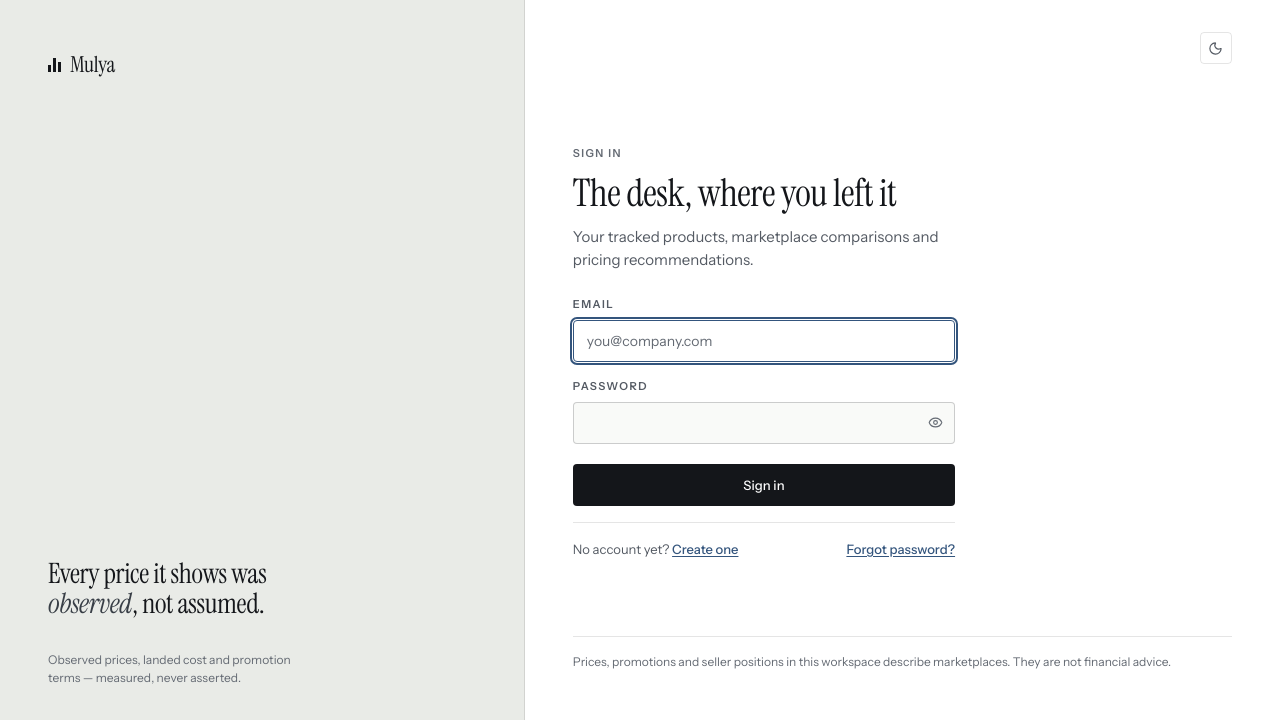
Test: UI-AUTH — sessions › UI-AUTH-13: a success response with no token does not become a signed-in state
In the field labelled "Email": [764, 341] box [573,320,955,362], type "operator@example.com"
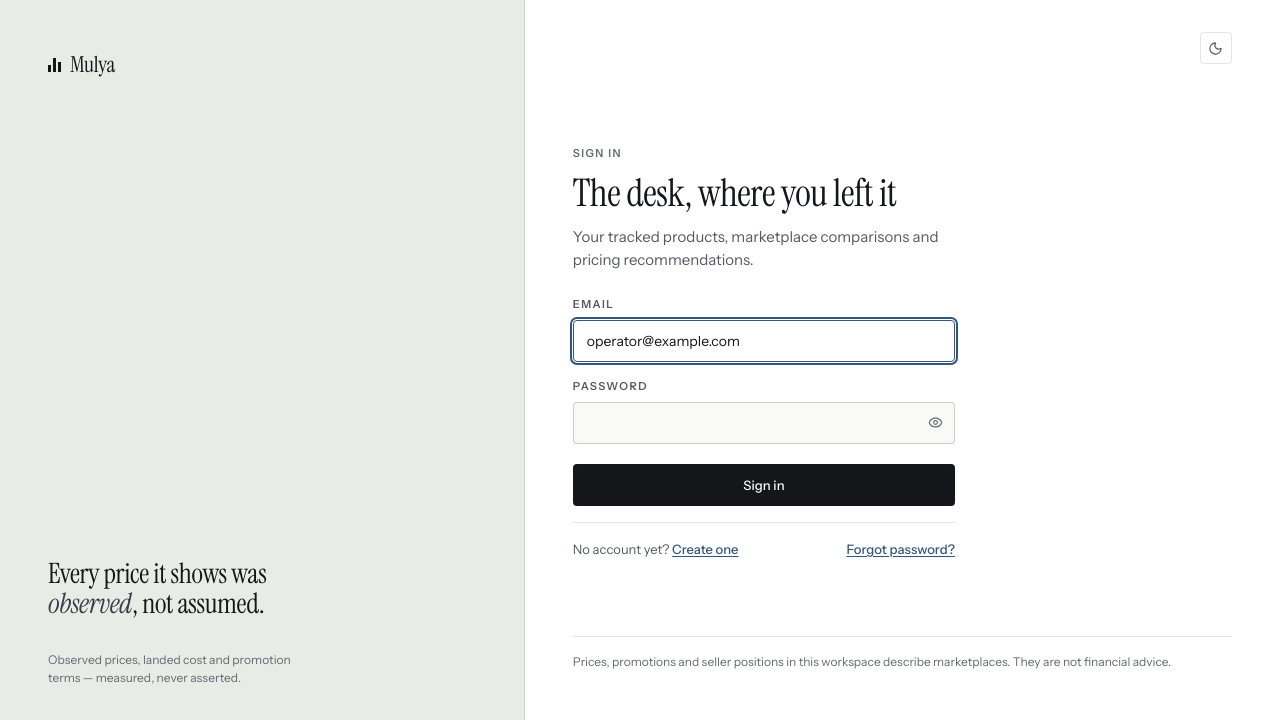
In the password field labelled "Password": [764, 423] box [573,402,955,444], type "correct-horse-battery"
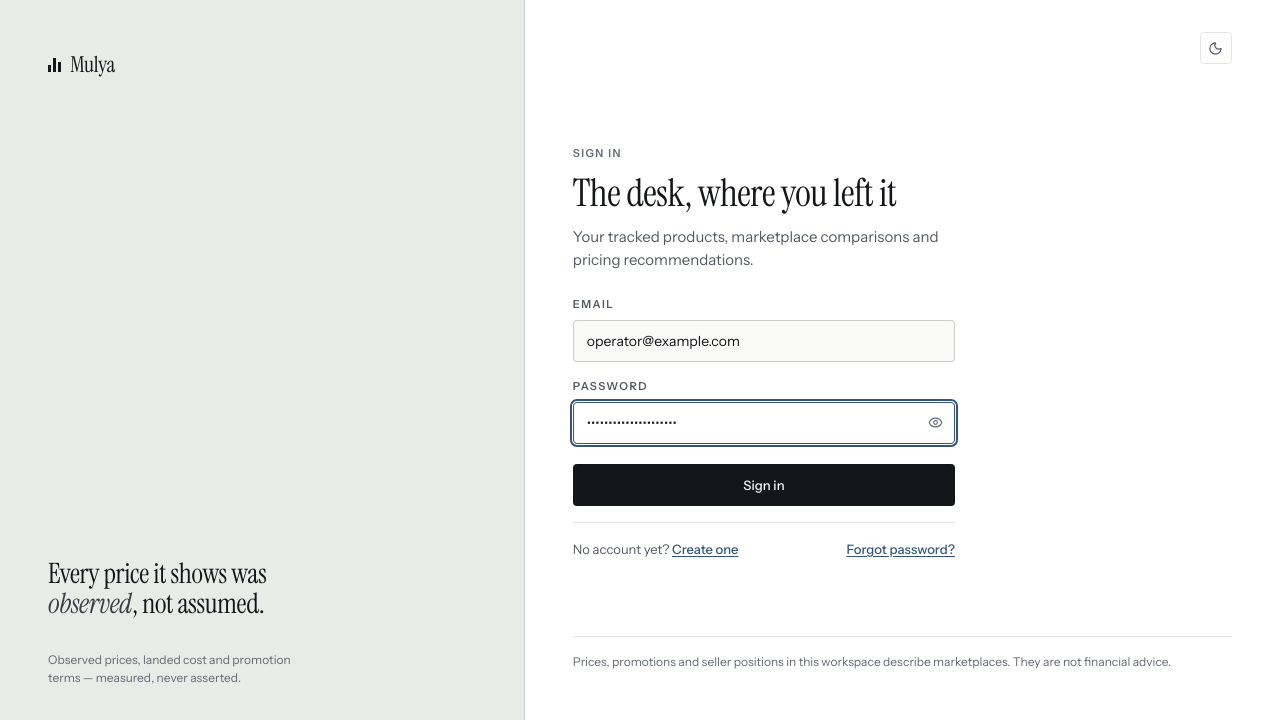
Click the button "Sign in": [764, 485] box [573,464,955,506]
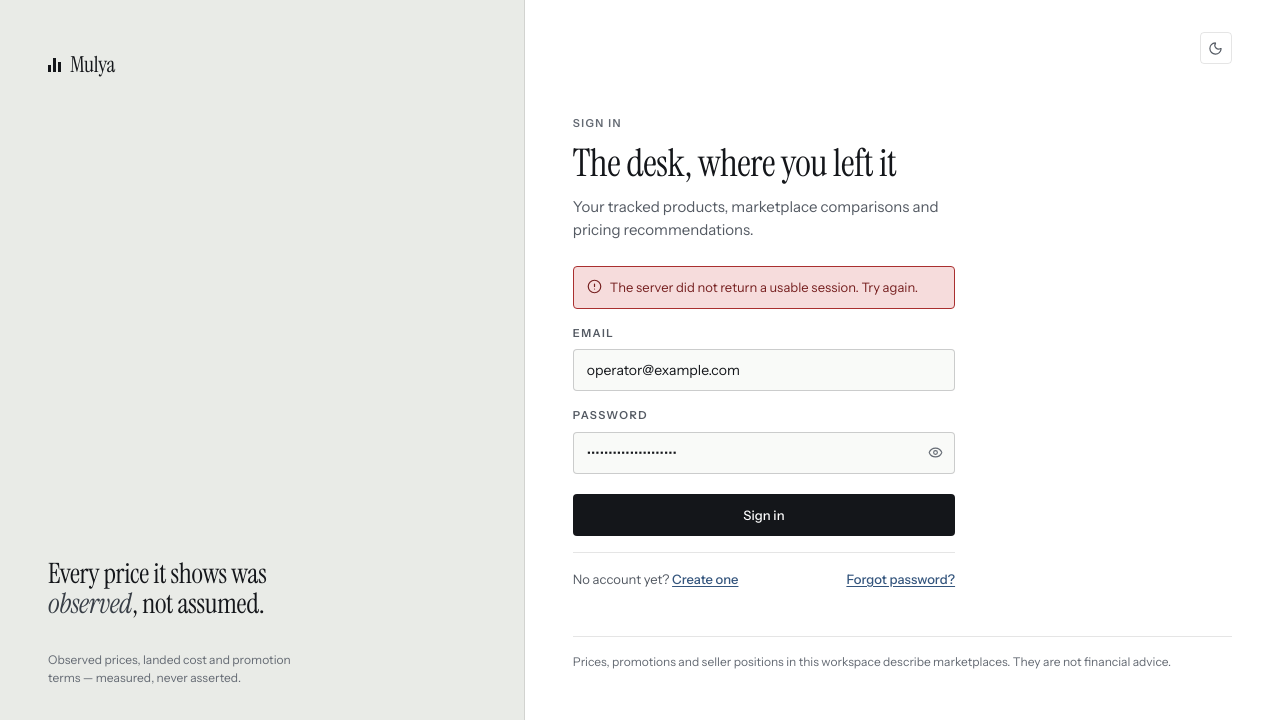
expect the message shows "did not return a usable session": met, box [610,279,918,295]
